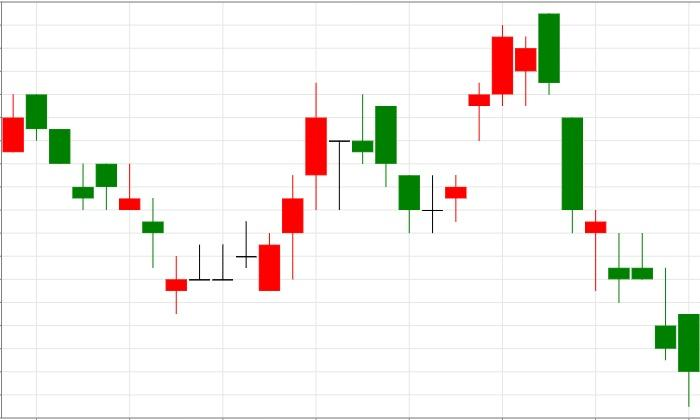three_white_soldiers_rise: (305, 24, 514, 233)
